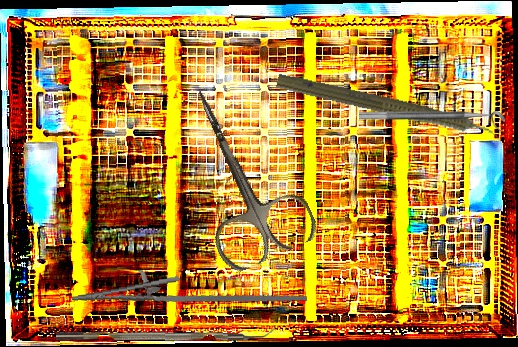Chopper: (56, 320, 275, 344)
Fixation Ring: (359, 111, 505, 132)
Handpiece: (273, 69, 509, 150)
Iris Scissors: (155, 68, 322, 277)
Needle Holder: (69, 248, 308, 331)
